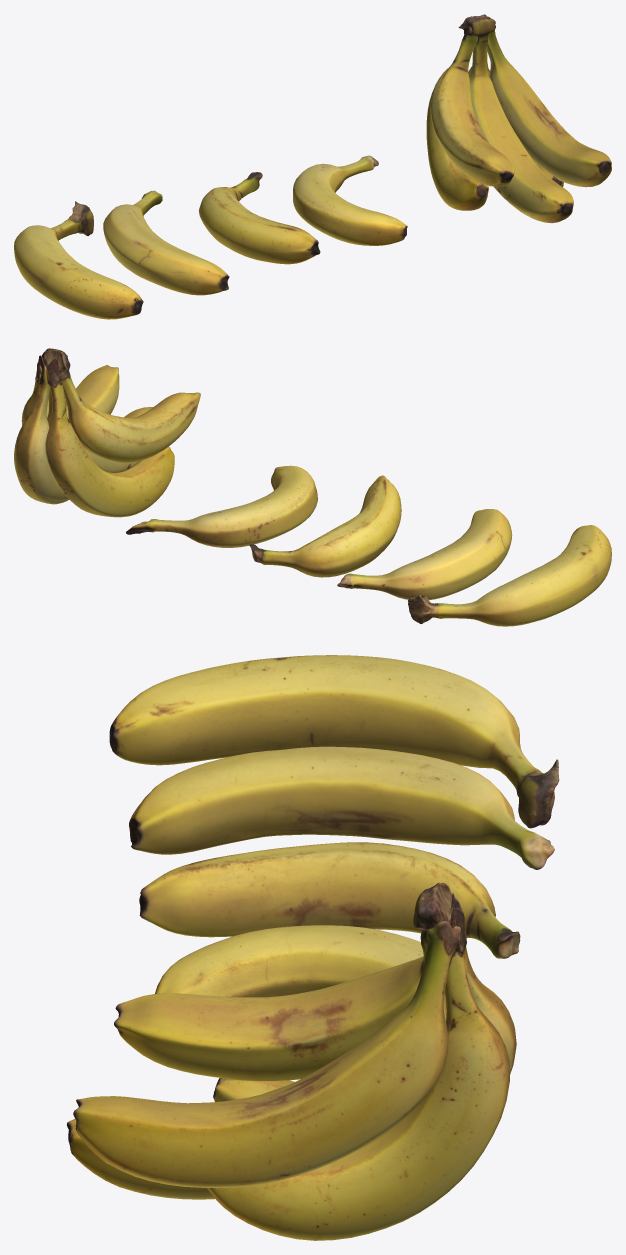
Rendered from bananas_1k.gltf.
The picture shows the model from 3 angles, top to bottom: view 1: azimuth 30°, elevation 25°; view 2: azimuth 150°, elevation 25°; view 3: azimuth 270°, elevation 25°; orthographic projection. The views are drawn at different scales.
Parts seen in each view (by area): view 1: bananas_bunch, bananas_d, bananas_c, bananas_a, bananas_b; view 2: bananas_bunch, bananas_d, bananas_c, bananas_a, bananas_b; view 3: bananas_bunch, bananas_d, bananas_c, bananas_b, bananas_a.
Boxes of the visible parts, x1,y1,x2,y2 form: bananas_bunch: [426, 14, 611, 223]; bananas_d: [14, 201, 143, 319]; bananas_c: [103, 190, 229, 295]; bananas_a: [293, 155, 407, 245]; bananas_b: [198, 172, 320, 264]; bananas_bunch: [14, 348, 200, 517]; bananas_d: [408, 525, 611, 626]; bananas_c: [337, 509, 512, 600]; bananas_a: [126, 465, 317, 547]; bananas_b: [249, 475, 401, 577]; bananas_bunch: [67, 882, 516, 1240]; bananas_d: [109, 655, 559, 828]; bananas_c: [129, 746, 554, 869]; bananas_b: [139, 842, 520, 958]; bananas_a: [155, 925, 423, 997].
Size of the model in its own units: 0.6 by 0.1788 by 0.2441.
1 material, 1 textured.
